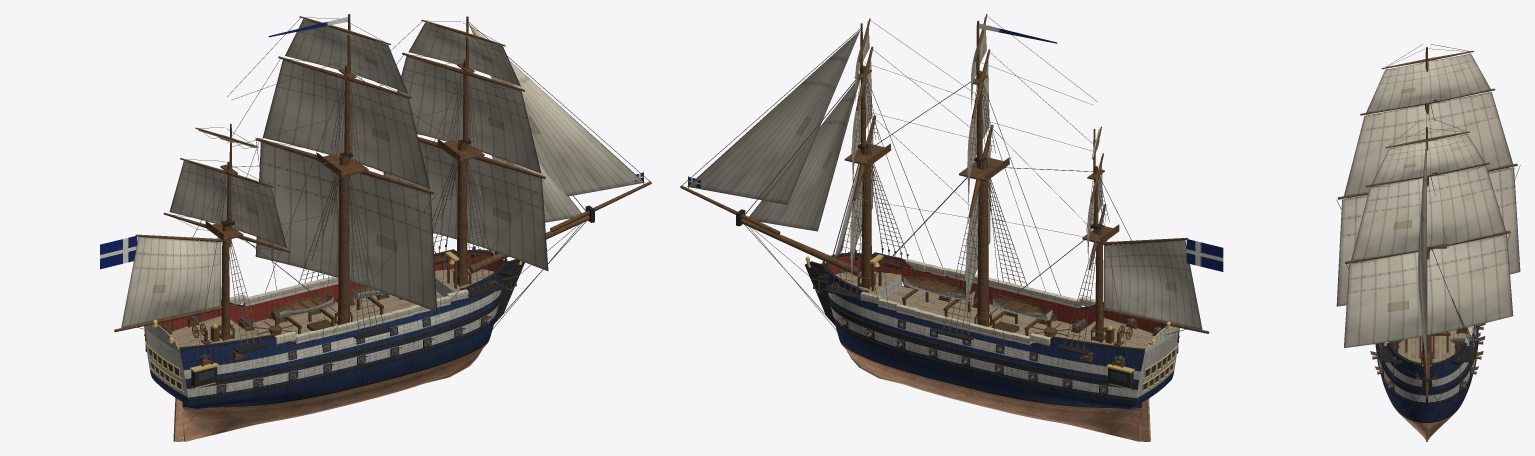
The model's file is frigate.glb.
The picture shows the model from 3 angles, left to right: view 1: azimuth 30°, elevation 25°; view 2: azimuth 150°, elevation 25°; view 3: azimuth 270°, elevation 25°; orthographic projection. The views are drawn at different scales.
Parts seen in each view (by area): view 1: SM_Frigate; view 2: SM_Frigate; view 3: SM_Frigate.
Part boxes in pixels (left/top/right/bottom): SM_Frigate: left=100, top=14, right=651, bottom=441; SM_Frigate: left=680, top=14, right=1223, bottom=441; SM_Frigate: left=1336, top=44, right=1520, bottom=441.
Size of the model in its own units: 51.2 by 29.7 by 14.27.
17 materials, 12 textured.
